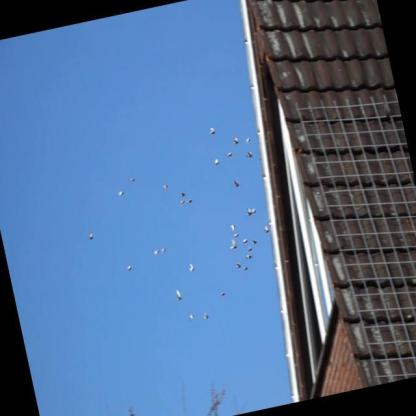bird: (244, 206, 259, 218), (228, 237, 239, 252), (175, 287, 184, 302), (241, 263, 251, 274), (125, 261, 134, 273), (188, 312, 197, 324), (228, 222, 237, 234), (262, 224, 271, 235), (231, 178, 240, 189), (117, 188, 126, 198), (159, 245, 168, 255), (185, 197, 194, 207), (202, 312, 211, 322), (244, 253, 254, 262), (212, 157, 221, 167), (232, 136, 241, 146), (245, 150, 254, 160), (86, 230, 94, 241), (188, 262, 196, 273), (245, 244, 254, 253), (162, 182, 170, 192), (235, 260, 243, 270), (208, 126, 216, 136), (128, 175, 137, 183), (180, 189, 188, 198), (178, 198, 187, 206), (153, 248, 161, 256), (241, 237, 249, 245), (220, 290, 227, 298), (233, 232, 240, 240), (251, 239, 259, 246), (227, 150, 234, 158), (245, 137, 252, 144)
